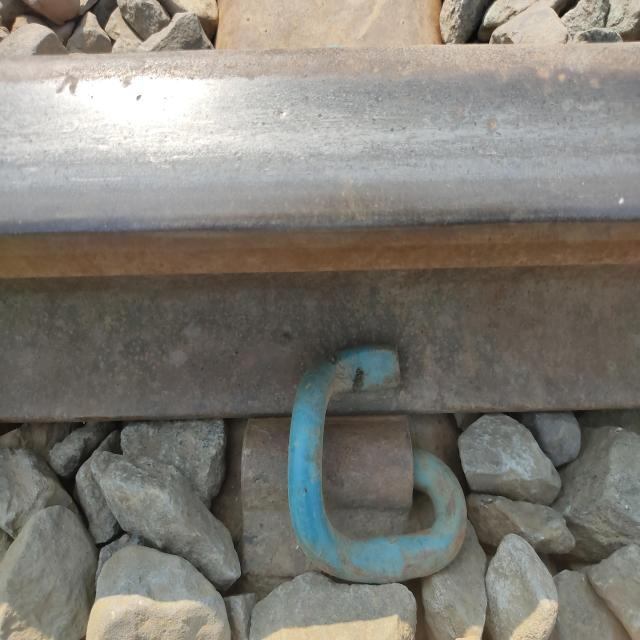broken_rail_medium: (57, 71, 80, 99), (121, 78, 142, 104), (487, 116, 499, 134), (589, 78, 603, 92), (455, 103, 465, 121), (554, 71, 568, 82), (538, 69, 552, 78)
